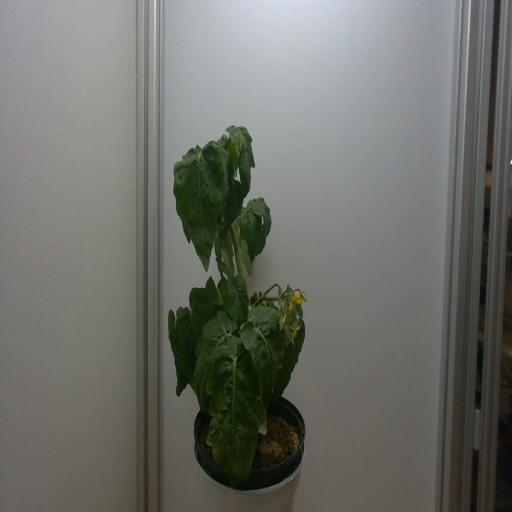Tomato-Leaves-Cupboard-: (208, 347, 265, 490), (182, 133, 227, 275), (236, 302, 286, 401), (192, 310, 233, 408), (270, 313, 310, 413), (170, 295, 200, 390), (224, 114, 256, 192), (173, 152, 199, 246), (188, 275, 220, 339), (246, 193, 274, 261), (217, 273, 251, 325), (238, 204, 263, 262), (222, 173, 244, 231), (238, 228, 259, 278), (170, 366, 192, 402)
